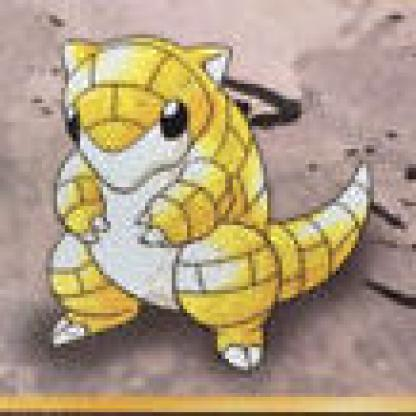Sandshrew: (43, 25, 384, 375)
